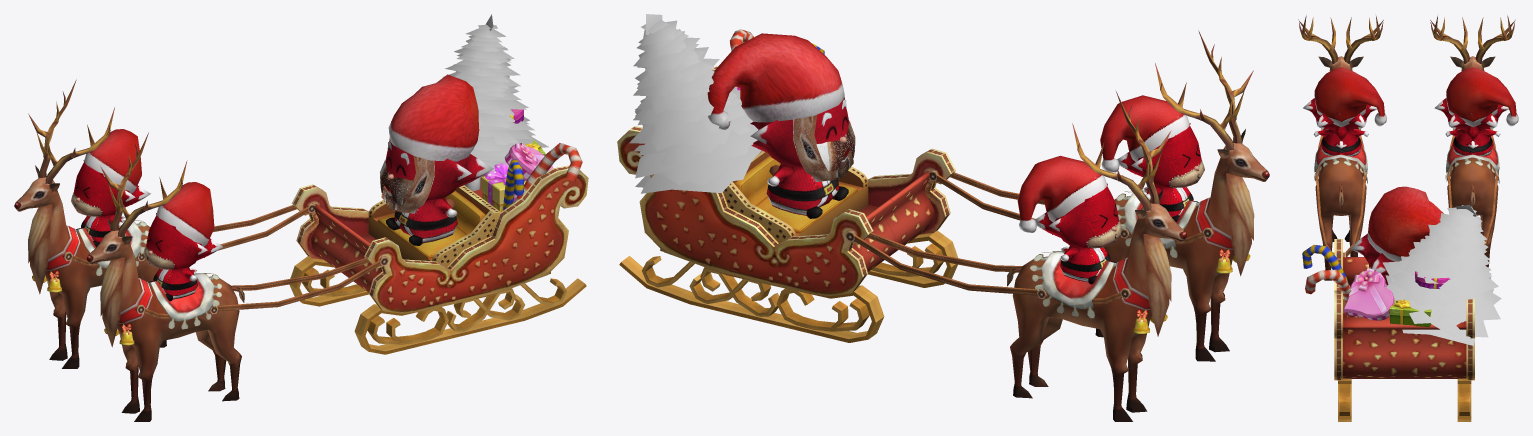
The model's file is furni_0200221.FBX.
3 views of the same model, side by side, from view 1: azimuth 30°, elevation 25°; view 2: azimuth 150°, elevation 25°; view 3: azimuth 270°, elevation 25° (orthographic). The views are drawn at different scales.
Visible parts, largest first — view 1: furni_0200221; view 2: furni_0200221; view 3: furni_0200221.
Boxes of the visible parts, left/top/right/bottom form: furni_0200221: left=14, top=14, right=588, bottom=421; furni_0200221: left=617, top=14, right=1269, bottom=421; furni_0200221: left=1298, top=14, right=1518, bottom=421.
Size of the model in its own units: 469 by 234 by 196.
